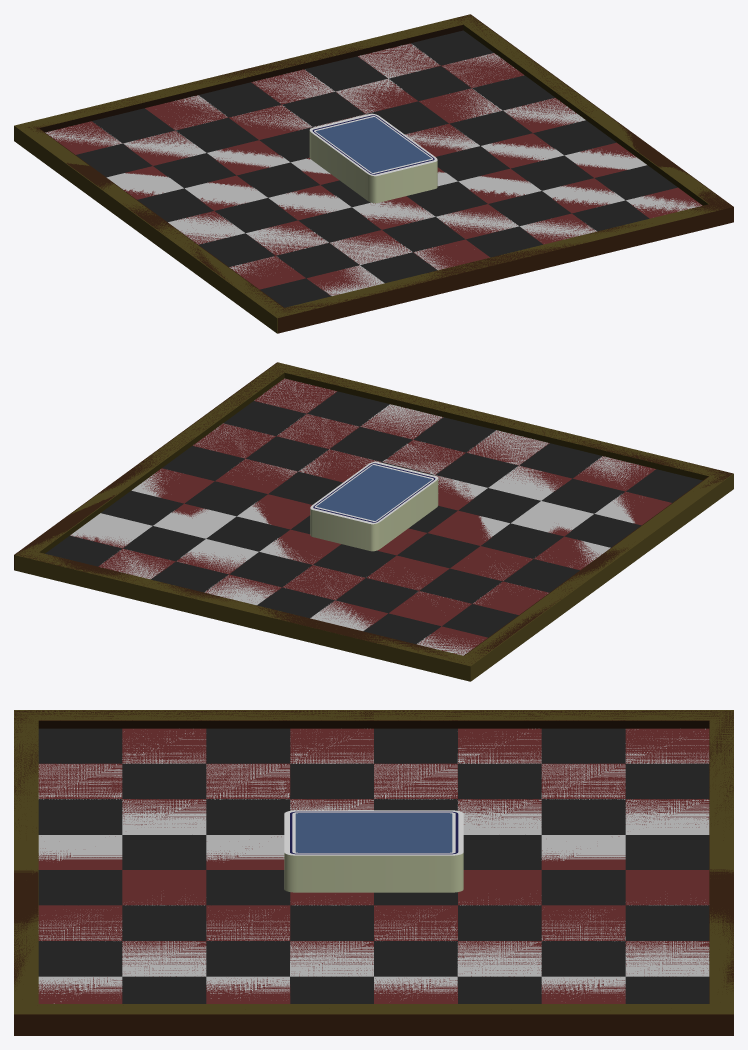
File: Games.fbx
3 views of the same model, one above another, from view 1: azimuth 30°, elevation 25°; view 2: azimuth 150°, elevation 25°; view 3: azimuth 270°, elevation 25° (orthographic). The views are drawn at different scales.
Visible parts, largest first — view 1: CheckerBoard01, CheckerBoard02, DeckOfCards; view 2: CheckerBoard01, CheckerBoard02, DeckOfCards; view 3: CheckerBoard01, CheckerBoard02, DeckOfCards.
Boxes of the visible parts, bbox=[...] form: CheckerBoard01: bbox=[14, 14, 726, 333]; CheckerBoard02: bbox=[27, 14, 733, 333]; DeckOfCards: bbox=[309, 113, 437, 203]; CheckerBoard01: bbox=[14, 362, 733, 681]; CheckerBoard02: bbox=[14, 362, 732, 663]; DeckOfCards: bbox=[310, 461, 438, 551]; CheckerBoard01: bbox=[14, 710, 733, 1014]; CheckerBoard02: bbox=[14, 710, 733, 1035]; DeckOfCards: bbox=[284, 810, 463, 892].
Bounding box in the file's own units: 49.13 × 3.78 × 49.06.
